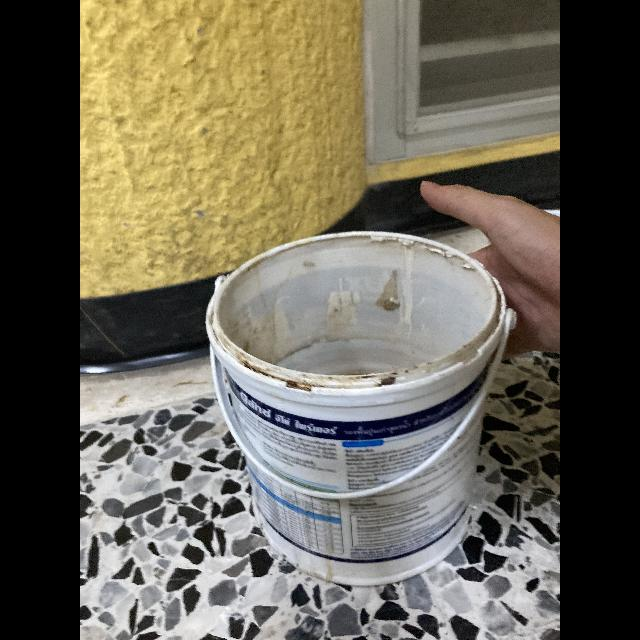paint_bucket: (204, 232, 503, 582)
